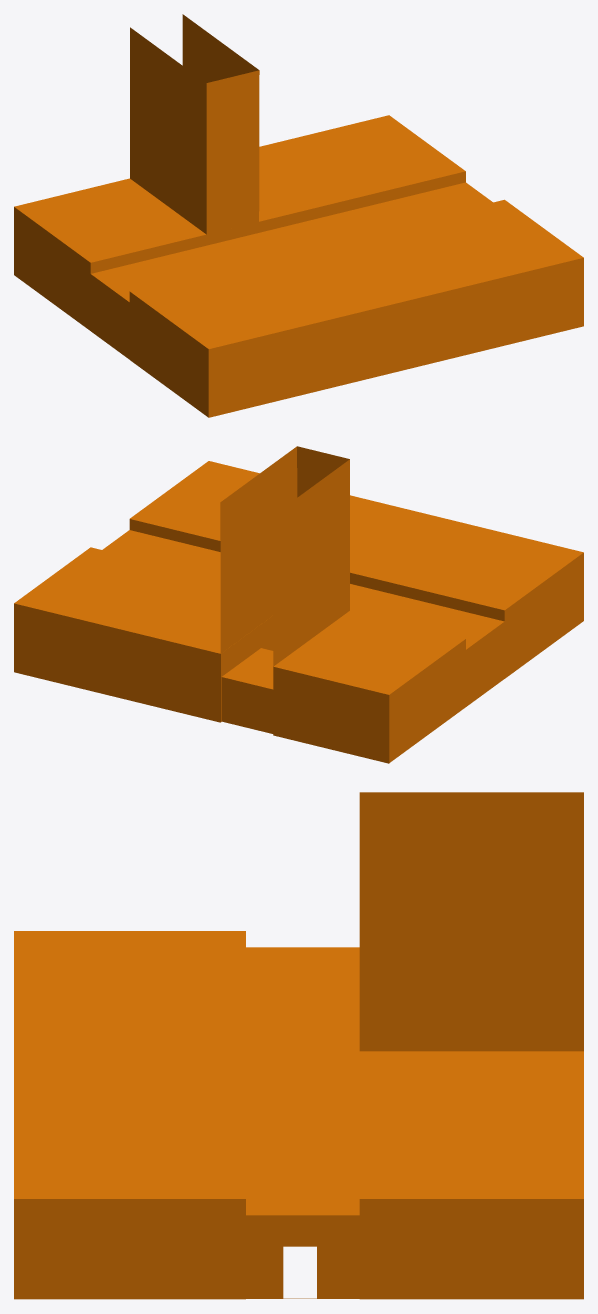
3 views of the same model, one above another, from view 1: azimuth 30°, elevation 25°; view 2: azimuth 150°, elevation 25°; view 3: azimuth 270°, elevation 25° (orthographic). The views are drawn at different scales.
Parts seen in each view (by area): view 1: BASE MODEL; view 2: BASE MODEL; view 3: BASE MODEL.
Boxes of the visible parts, x1=… form: BASE MODEL: x1=14, y1=14, x2=583, y2=417; BASE MODEL: x1=14, y1=446, x2=583, y2=763; BASE MODEL: x1=14, y1=792, x2=583, y2=1299.
Size of the model in its own units: 7630 by 4280 by 6861.
